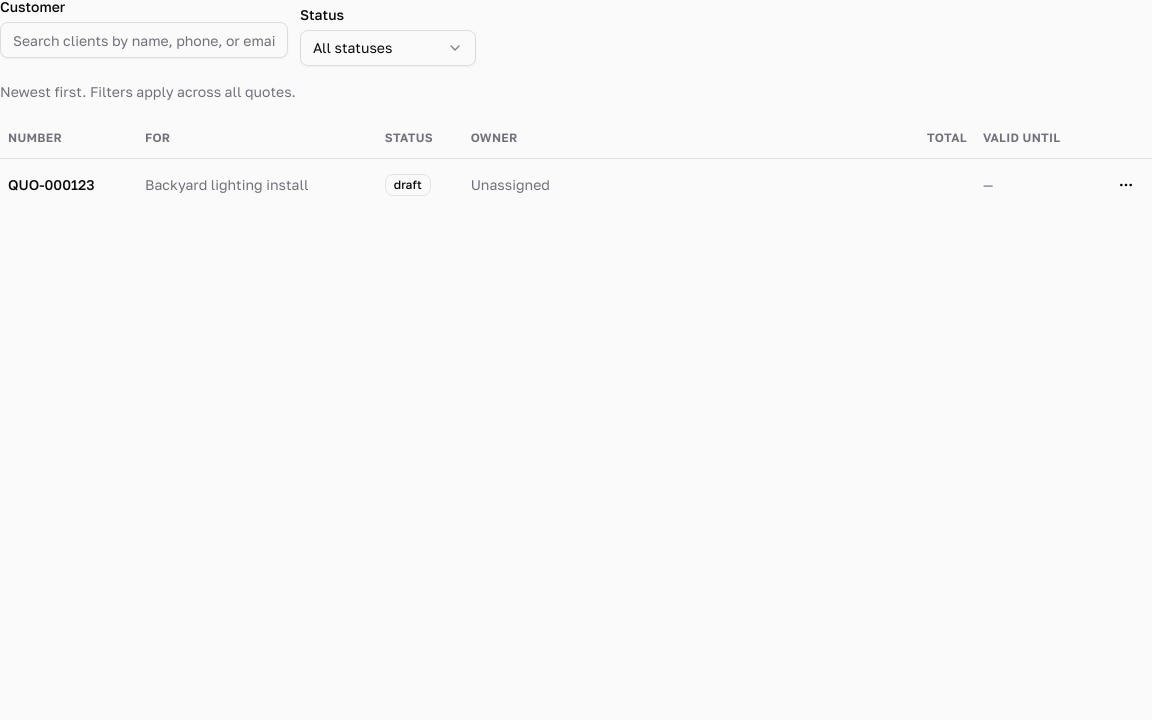
Test case: QuotesList editing and deleting › keeps the plain-draft wording when nothing was ever sent
This screenshot has width=1152, height=720.
Expected: the button "QUO-000123" is shown, left=8, top=174, right=94, bottom=194
Click the button named "Actions": (1126, 184) left=1108, top=166, right=1144, bottom=202
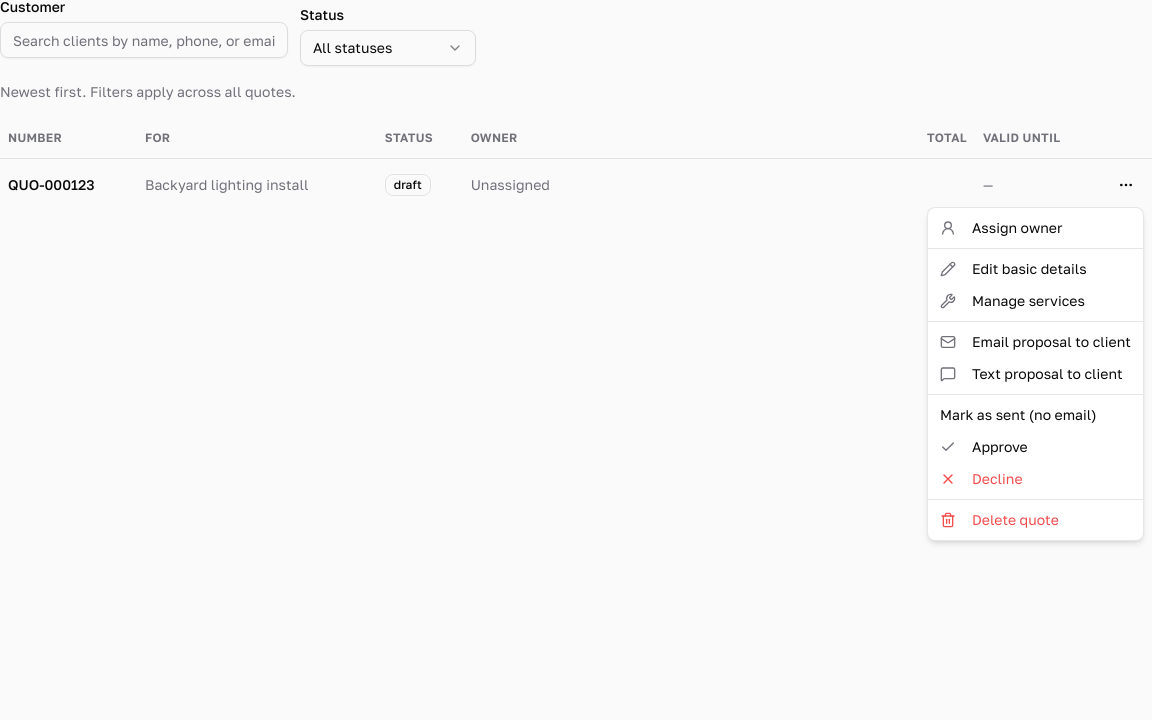
Click the menu item "Delete quote": (999, 520) left=940, top=511, right=1059, bottom=528
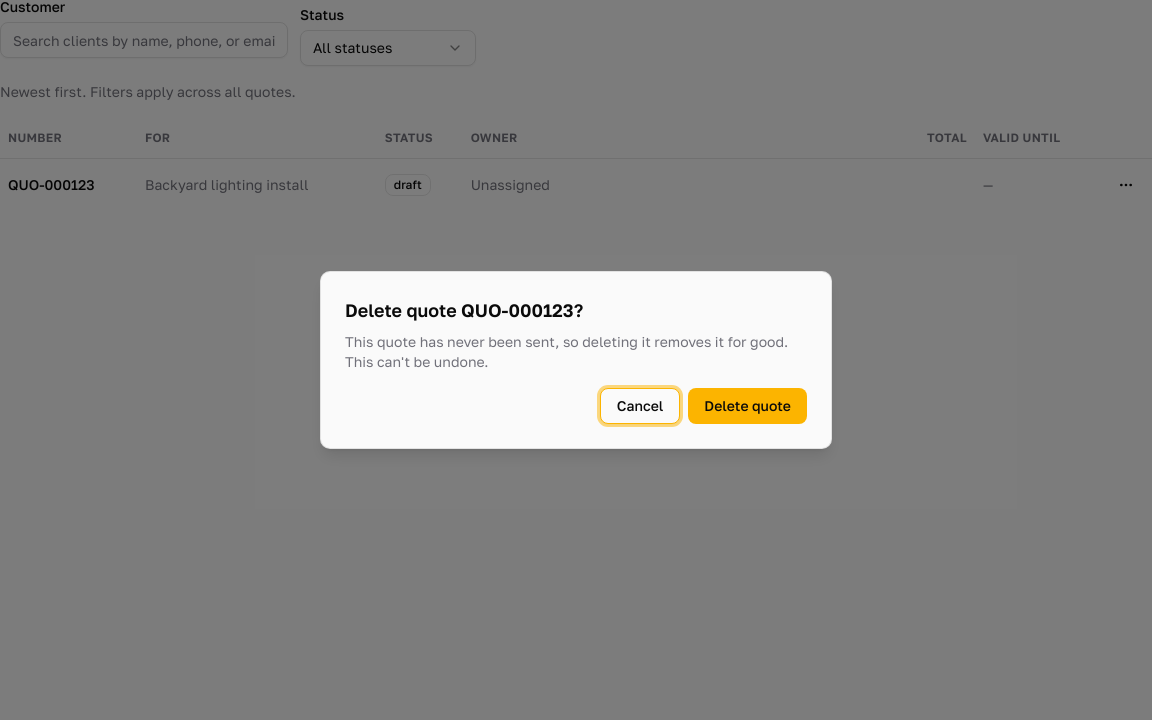
Expected: the text "never been sent" is shown, left=345, top=333, right=788, bottom=370
